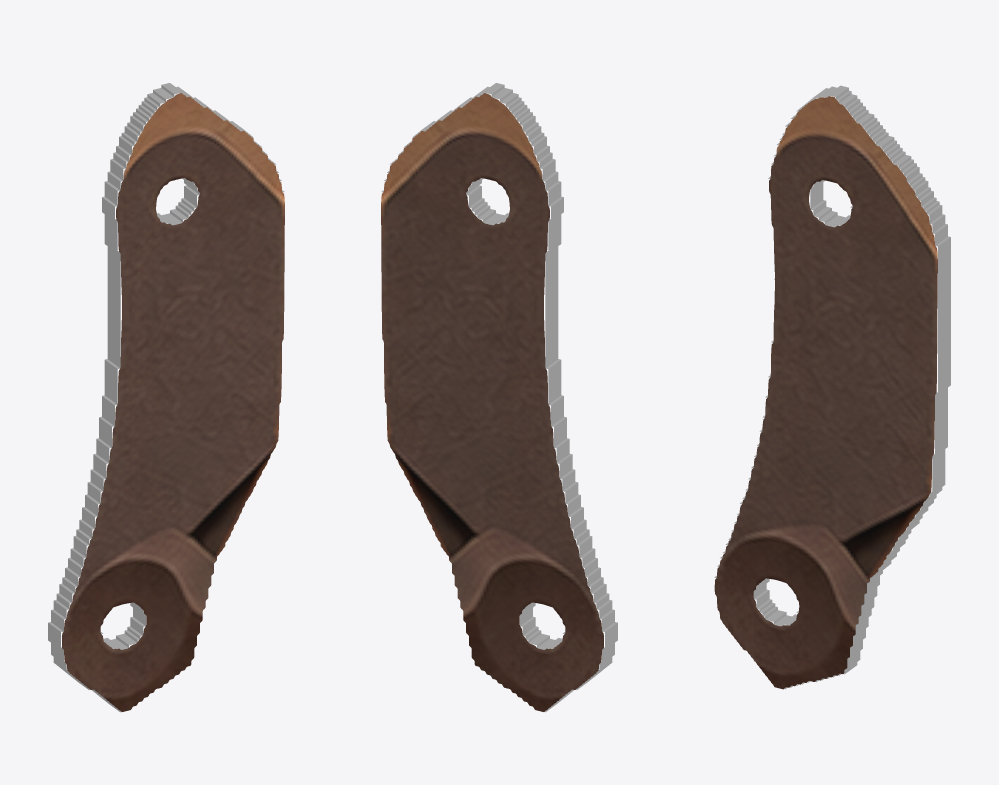
The model's file is Variant03Upper.glb.
3 renders of one model, left to right at view 1: azimuth 30°, elevation 25°; view 2: azimuth 150°, elevation 25°; view 3: azimuth 330°, elevation 25°, orthographic.
Visible parts, largest first — view 1: PaperVolume; view 2: PaperVolume; view 3: PaperVolume.
Boxes of the visible parts, x1,y1,x2,y2 form: PaperVolume: (48, 83, 284, 712); PaperVolume: (381, 83, 617, 712); PaperVolume: (714, 85, 950, 689).
Bounding box in the file's own units: 1.03 × 2.28 × 0.08.
Materials: 3 (2 with a texture image).
